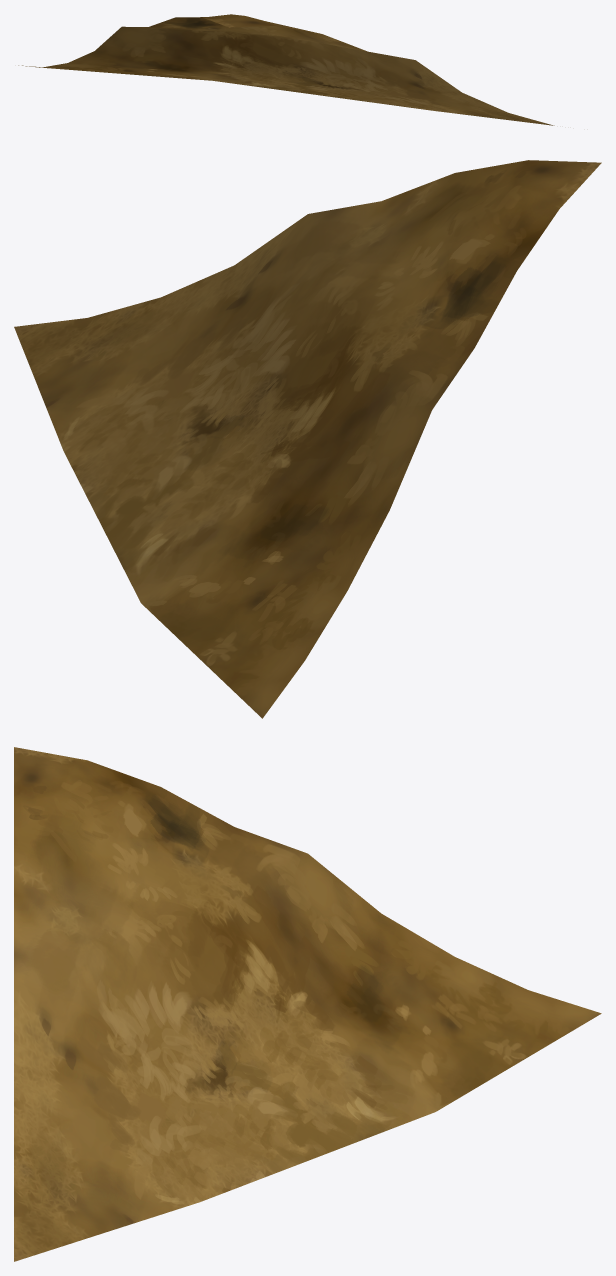
The model's file is Slope_Corner_007.fbx.
3 renders of one model, top to bottom at view 1: azimuth 30°, elevation 25°; view 2: azimuth 150°, elevation 25°; view 3: azimuth 270°, elevation 25°, orthographic. The views are drawn at different scales.
Parts seen in each view (by area): view 1: Slope_Corner_007; view 2: Slope_Corner_007; view 3: Slope_Corner_007.
Boxes of the visible parts, x1,y1,x2,y2 form: Slope_Corner_007: (18, 14, 554, 125); Slope_Corner_007: (14, 160, 601, 718); Slope_Corner_007: (14, 747, 601, 1261).
Size of the model in its own units: 10 by 5.12 by 10.
Materials: 1 (1 with a texture image).
